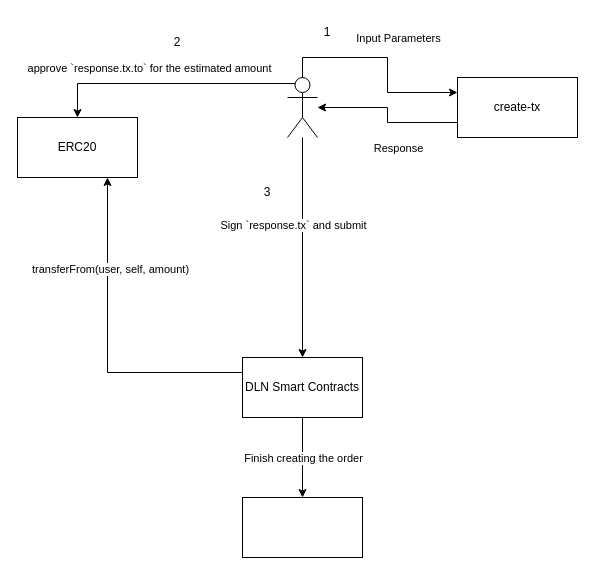
Image size: 595x575. Some labels were removed from this diagram. Here are the shapes that lost their labels. From the top down, the centre of each, then its label:
At (302,107): "Actor".
At (302,527): "DlnSource".
